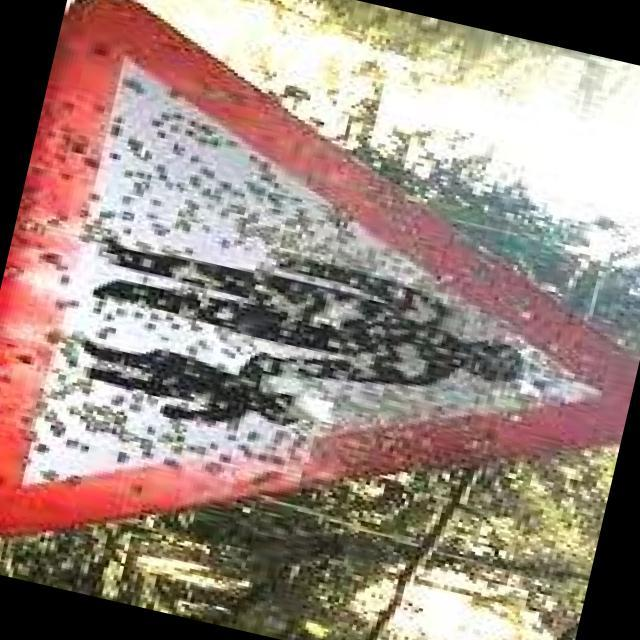obstructed_road_sign: (0, 0, 640, 536)
